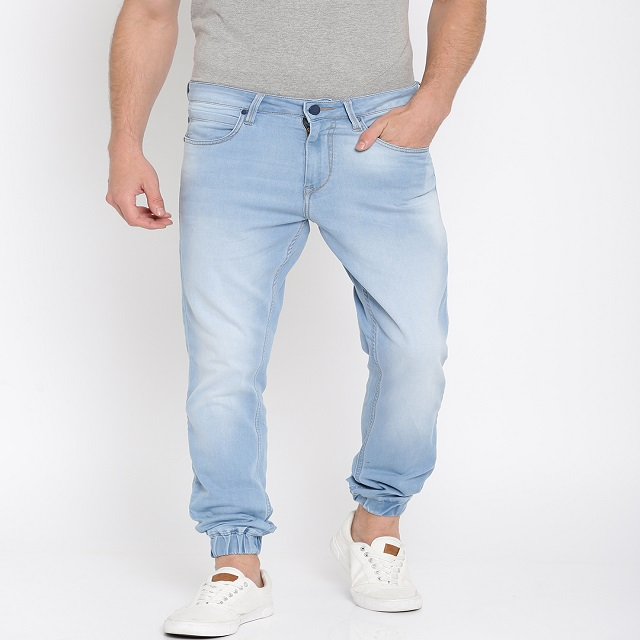jeans: (158, 75, 448, 550)
